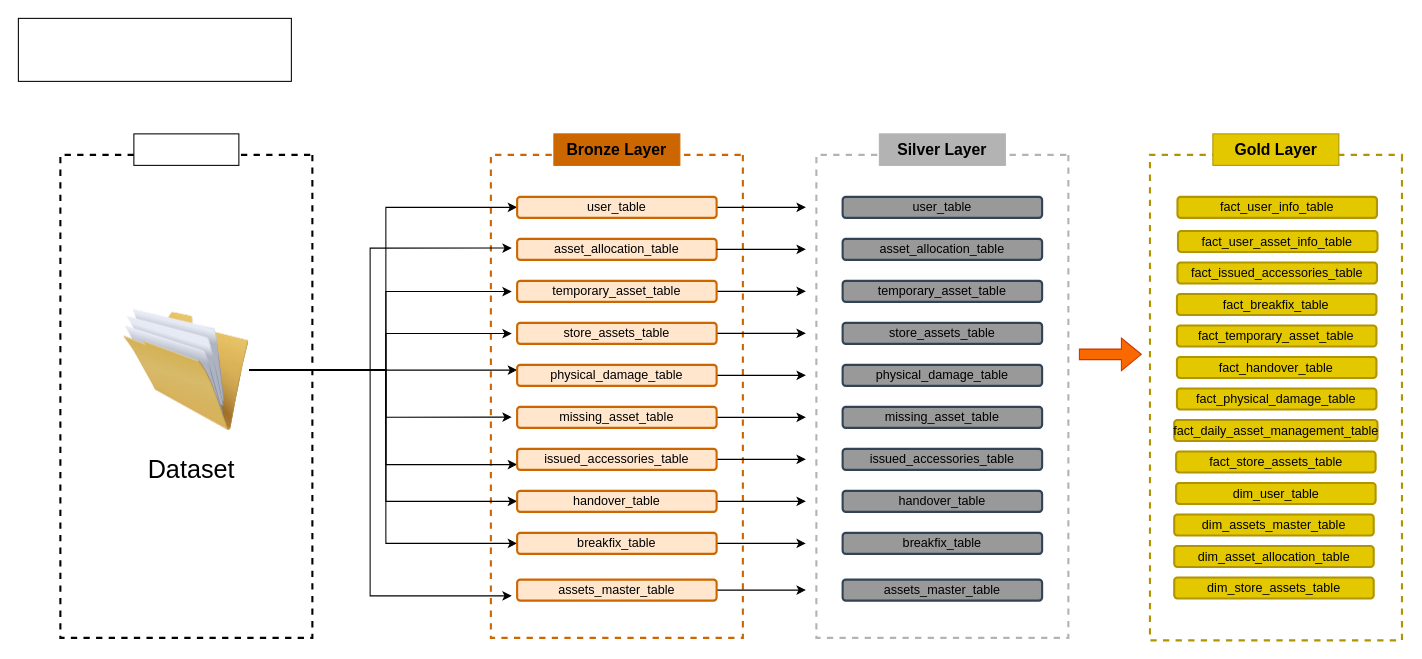
Some shapes in this 1422 by 659 pixel diagram are drawn without their labels. Each missing label, with the box of its shape:
Data Flow Diagram: (17, 17, 291, 81)
Sources: (133, 133, 239, 165)
